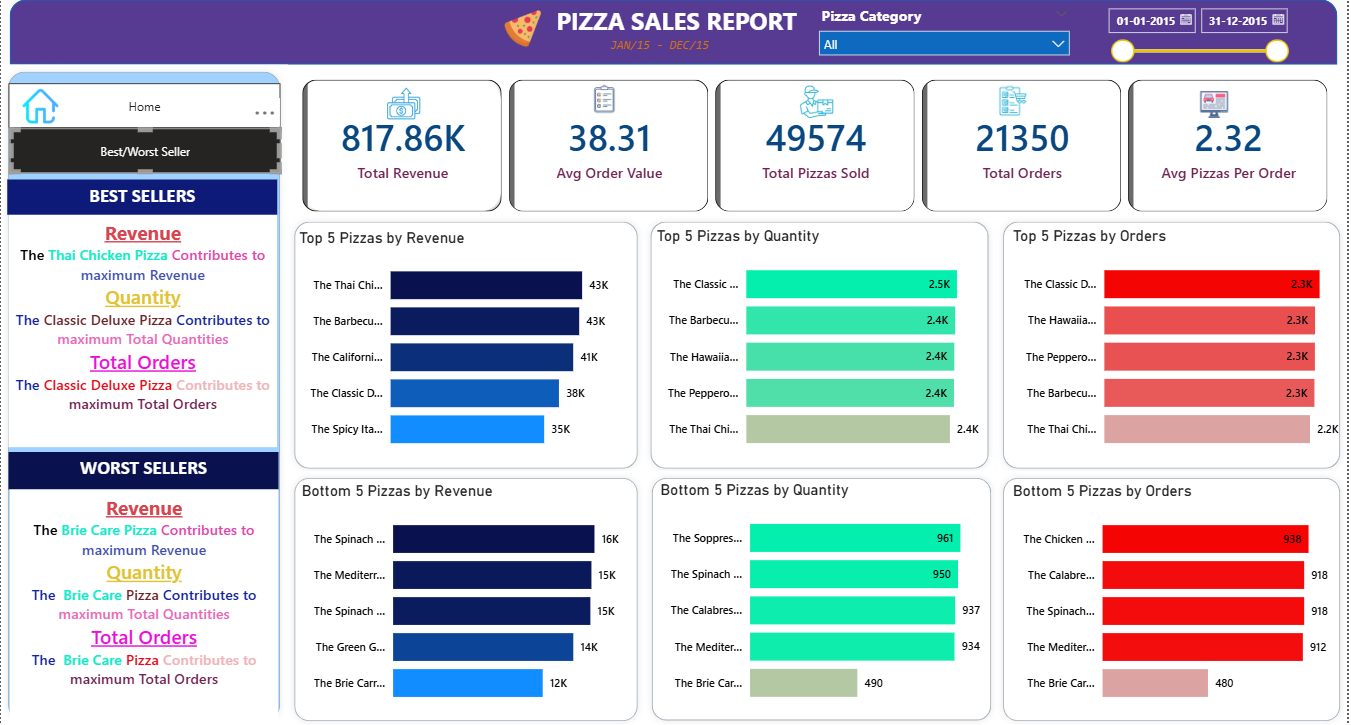

This screenshot's page, from the dashboard's own definition file:
{"tool":"powerbi","page":{"name":"Best/Worst Seller","canvas":[1500,820],"ordinal":1},"visuals":[{"type":"cardVisual","fields":{"Data":["pizza_sales_excel_file.Total Revenue","pizza_sales_excel_file.Avg Order Value","pizza_sales_excel_file.Total Pizzas Sold","pizza_sales_excel_file.Total Orders","pizza_sales_excel_file.Avg Pizzas Per Order"]},"box":[318.9,80.8,1178.2,181],"z":0},{"type":"shape","box":[9.7,8.4,1479,72.4],"z":1000},{"type":"textbox","box":[597.1,8.8,310.3,52.9],"z":2000},{"type":"textbox","box":[673.5,44.1,123.5,29.4],"z":3000},{"type":"image","box":[552.9,19.1,57.4,42.6],"z":4000},{"type":"image","box":[395.6,102.9,105.9,42.6],"z":5000},{"type":"image","box":[886.8,102.9,42.6,38.2],"z":6000},{"type":"image","box":[1110.3,104.4,35.3,33.8],"z":7000},{"type":"image","box":[641.2,102.9,63.2,32.4],"z":8000},{"type":"shape","box":[0,80.8,318.9,739.5],"z":9000},{"type":"textbox","box":[8.4,247.9,299.4,259],"z":10000},{"type":"image","box":[1335.3,98.5,32.4,52.9],"z":11000},{"type":"shape","box":[318.9,247.9,398.3,291.1],"z":12000},{"type":"textbox","box":[7,208.9,300.8,39],"z":13000},{"type":"textbox","box":[8.4,512.5,300.8,41.8],"z":14000},{"type":"textbox","box":[9.7,554.3,299.4,266],"z":15000},{"type":"slicer","fields":{"Values":["pizza_sales_excel_file.pizza_category"]},"box":[901.1,9.7,299.4,64.1],"z":16000},{"type":"slicer","fields":{"Values":["pizza_sales_excel_file.order_date"]},"box":[1221.4,0,221.4,98.9],"z":17000},{"type":"shape","box":[715.6,247.6,392.4,291.1],"z":18000},{"type":"shape","box":[1108.6,247.9,391.3,291.1],"z":19000},{"type":"barChart","title":"Top 5 Pizzas by Revenue","fields":{"Y":["pizza_sales_excel_file.Total Revenue"],"Category":["pizza_sales_excel_file.pizza_name"]},"box":[327.3,263.2,376,261.8],"z":20000},{"type":"shape","box":[717.2,533.9,394,286.2],"z":21000},{"type":"shape","box":[318.9,533.4,398.3,286.9],"z":22000},{"type":"barChart","title":"Bottom 5 Pizzas by Revenue","fields":{"Y":["pizza_sales_excel_file.Total Revenue"],"Category":["pizza_sales_excel_file.pizza_name"]},"box":[330.1,545.9,376,261.8],"z":23000},{"type":"barChart","title":"Top 5 Pizzas by Quantity","fields":{"Category":["pizza_sales_excel_file.pizza_name"],"Y":["pizza_sales_excel_file.Total Pizzas Sold"]},"box":[725.6,261.8,369.1,263.2],"z":24000},{"type":"barChart","title":"Bottom 5 Pizzas by Quantity","fields":{"Category":["pizza_sales_excel_file.pizza_name"],"Y":["pizza_sales_excel_file.Total Pizzas Sold"]},"box":[729.8,544.5,369.1,263.2],"z":25000},{"type":"barChart","title":"Top 5 Pizzas by Orders","fields":{"Category":["pizza_sales_excel_file.pizza_name"],"Y":["pizza_sales_excel_file.Total Orders"]},"box":[1122.5,261.8,377.4,263.2],"z":26000},{"type":"shape","box":[1108.6,533.4,391.3,286.9],"z":27000},{"type":"barChart","title":"Bottom 5 Pizzas by Orders","fields":{"Category":["pizza_sales_excel_file.pizza_name"],"Y":["pizza_sales_excel_file.Total Orders"]},"box":[1122.5,545.9,366.3,261.8],"z":28000},{"type":"pageNavigator","box":[9.7,151.8,302.2,50.1],"z":29000},{"type":"pageNavigator","box":[8.4,101.7,303.6,50.1],"z":30000},{"type":"image","box":[228.4,157.4,90.5,39],"z":31000},{"type":"image","box":[0,107.2,87.7,40.4],"z":32000},{"type":"image","box":[0,151.8,87.7,46],"z":33000}]}

Visuals, with their boxes in screenshot pixels (x1, y1, x2, y2), scaled from the page's 1500x820 canvas onto the 1351x725 screenshot:
cardVisual - pizza_sales_excel_file.Total Revenue x pizza_sales_excel_file.Avg Order Value: crop(287, 71, 1348, 231)
shape: crop(9, 7, 1341, 71)
textbox: crop(538, 8, 817, 55)
textbox: crop(607, 39, 718, 65)
image: crop(498, 17, 550, 55)
image: crop(356, 91, 452, 129)
image: crop(799, 91, 837, 125)
image: crop(1000, 92, 1032, 122)
image: crop(578, 91, 634, 120)
shape: crop(0, 71, 287, 724)
textbox: crop(8, 219, 277, 448)
image: crop(1203, 87, 1232, 134)
shape: crop(287, 219, 646, 477)
textbox: crop(6, 185, 277, 219)
textbox: crop(8, 453, 278, 490)
textbox: crop(9, 490, 278, 724)
slicer - pizza_sales_excel_file.pizza_category: crop(812, 9, 1081, 65)
slicer - pizza_sales_excel_file.order_date: crop(1100, 0, 1299, 87)
shape: crop(645, 219, 998, 476)
shape: crop(998, 219, 1350, 477)
"Top 5 Pizzas by Revenue" barChart: crop(295, 233, 633, 464)
shape: crop(646, 472, 1001, 724)
shape: crop(287, 472, 646, 724)
"Bottom 5 Pizzas by Revenue" barChart: crop(297, 483, 636, 714)
"Top 5 Pizzas by Quantity" barChart: crop(654, 231, 986, 464)
"Bottom 5 Pizzas by Quantity" barChart: crop(657, 481, 990, 714)
"Top 5 Pizzas by Orders" barChart: crop(1011, 231, 1350, 464)
shape: crop(998, 472, 1350, 724)
"Bottom 5 Pizzas by Orders" barChart: crop(1011, 483, 1341, 714)
pageNavigator: crop(9, 134, 281, 179)
pageNavigator: crop(8, 90, 281, 134)
image: crop(206, 139, 287, 174)
image: crop(0, 95, 79, 130)
image: crop(0, 134, 79, 175)
